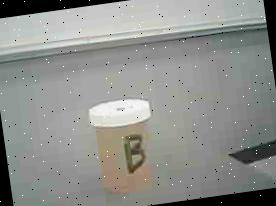Bottle B: (80, 91, 169, 200)
